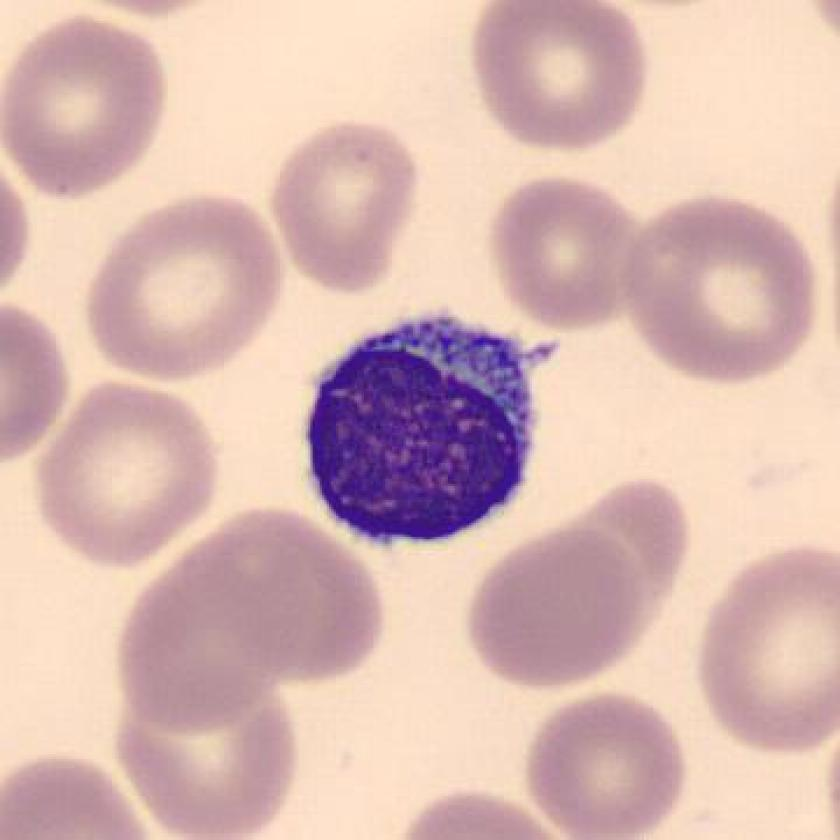lymphocyte: (290, 297, 573, 561)
